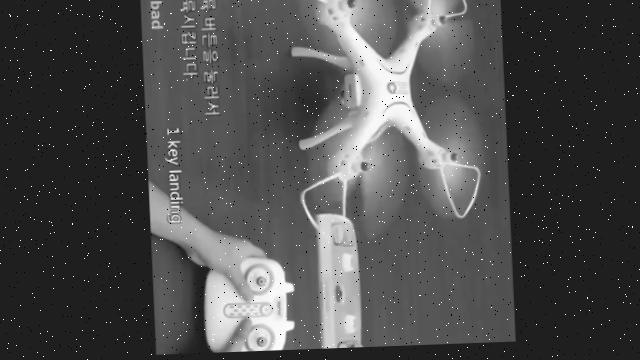drone: (282, 0, 490, 243)
